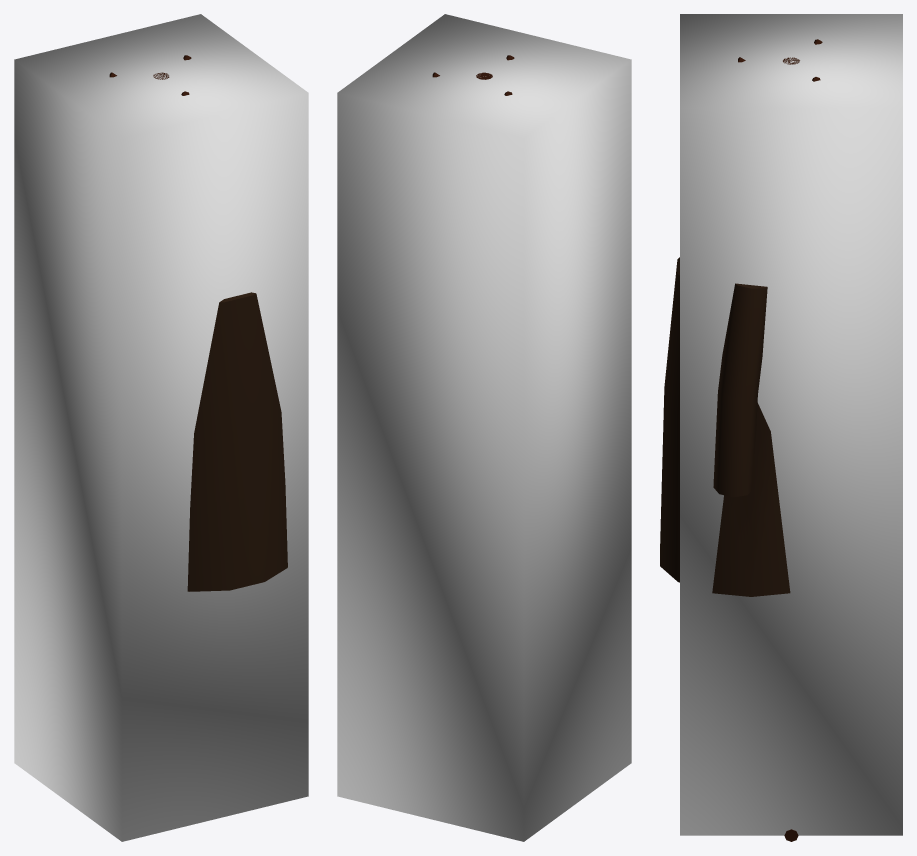
File: perchero.glb
3 renders of one model, left to right at view 1: azimuth 30°, elevation 25°; view 2: azimuth 150°, elevation 25°; view 3: azimuth 270°, elevation 25°, orthographic. The views are drawn at different scales.
Visible parts, largest first — view 1: perchero-colcaja, perchero; view 2: perchero-colcaja; view 3: perchero-colcaja, perchero.
Boxes of the visible parts, bbox=[...] form: perchero-colcaja: bbox=[14, 14, 308, 841]; perchero: bbox=[109, 55, 287, 591]; perchero-colcaja: bbox=[337, 14, 631, 841]; perchero-colcaja: bbox=[680, 14, 902, 835]; perchero: bbox=[660, 39, 822, 841].
Bounding box in the file's own units: 0.555 × 1.82 × 0.5447.
